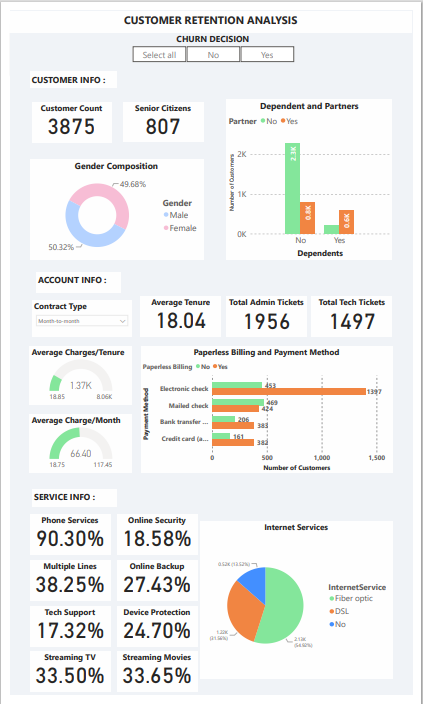

Layout of this report page (visuals, bound fields, positions):
{"tool":"powerbi","page":{"name":"Page 2","canvas":[1000,1700],"ordinal":0},"visuals":[{"type":"textbox","box":[0,0,999.4,54.4],"z":0},{"type":"card","title":"Average Tenure","fields":{"Values":["Avg(01 Churn-Dataset.tenure)"]},"box":[325,710,200,100],"z":1000},{"type":"textbox","box":[50,151.4,215.7,40],"z":2000},{"type":"gauge","title":"Average Charge/Month","fields":{"MinValue":["Min(01 Churn-Dataset.MonthlyCharges)"],"MaxValue":["Max(01 Churn-Dataset.MonthlyCharges)"],"Y":["Avg(01 Churn-Dataset.MonthlyCharges)"]},"box":[50,1002.9,254.3,145.7],"z":3000},{"type":"textbox","box":[65.7,648.6,210,50],"z":4000},{"type":"gauge","title":"Average Charges/Tenure","fields":{"Y":["Avg(01 Churn-Dataset.TotalCharges)"],"MinValue":["Min(01 Churn-Dataset.TotalCharges)"],"MaxValue":["Max(01 Churn-Dataset.TotalCharges)"]},"box":[50,834.3,254.3,145.7],"z":5000},{"type":"textbox","box":[55.7,1187.1,210,44.3],"z":6000},{"type":"card","title":"Customer Count","fields":{"Values":["Count(01 Churn-Dataset.customerID)"]},"box":[55,228.3,198.3,100],"z":7000},{"type":"slicer","title":"CHURN DECISION","fields":{"Values":["01 Churn-Dataset.Churn"]},"box":[280,54.3,450,80],"z":8000},{"type":"donutChart","title":"Gender Composition","fields":{"Category":["01 Churn-Dataset.gender"],"Y":["CountNonNull(01 Churn-Dataset.customerID)"]},"box":[50,368.6,431.4,250],"z":9000},{"type":"card","title":"Senior Citizens","fields":{"Values":["Sum(01 Churn-Dataset.SeniorCitizen)"]},"box":[280.6,227.6,200.6,99.4],"z":10000},{"type":"clusteredColumnChart","title":"Dependent and Partners","fields":{"Category":["01 Churn-Dataset.Dependents"],"Y":["CountNonNull(01 Churn-Dataset.customerID)"],"Series":["01 Churn-Dataset.Partner"]},"box":[538.6,221.4,411.4,397.1],"z":11000},{"type":"clusteredBarChart","title":"Paperless Billing and Payment Method","fields":{"Category":["01 Churn-Dataset.PaymentMethod"],"Y":["CountNonNull(01 Churn-Dataset.customerID)"],"Series":["01 Churn-Dataset.PaperlessBilling"]},"box":[325.7,834.3,624.3,314.3],"z":12000},{"type":"slicer","title":"Contract Type","fields":{"Values":["01 Churn-Dataset.Contract"]},"box":[55.7,718.6,248.6,91.4],"z":13000},{"type":"card","title":"Total Tech Tickets","fields":{"Values":["Sum(01 Churn-Dataset.numTechTickets)"]},"box":[750,710,200,101.4],"z":14000},{"type":"card","title":"Total Admin Tickets","fields":{"Values":["Sum(01 Churn-Dataset.numAdminTickets)"]},"box":[537.9,710,200,101.4],"z":15000},{"type":"card","title":"Phone Services ","fields":{"Values":["01 Churn-Dataset.PhoneServiceyes"]},"box":[50,1250,200,100],"z":15001},{"type":"card","title":"Multiple Lines","fields":{"Values":["01 Churn-Dataset.Multiplelines%"]},"box":[50,1363.8,200,100],"z":15002},{"type":"card","title":"Online Security","fields":{"Values":["01 Churn-Dataset.OnlineSecurity%"]},"box":[266.2,1250,200,100],"z":15003},{"type":"card","title":"Online Backup","fields":{"Values":["01 Churn-Dataset.OnlineBackup%"]},"box":[266.2,1363.8,200,100],"z":15004},{"type":"pieChart","title":"Internet Services","fields":{"Category":["01 Churn-Dataset.InternetService"],"Y":["CountNonNull(01 Churn-Dataset.customerID)"]},"box":[472.5,1267.5,477.5,391.2],"z":15005},{"type":"card","title":"Device Protection","fields":{"Values":["01 Churn-Dataset.DeviceProtection%"]},"box":[266.2,1477.5,200,100],"z":15006},{"type":"card","title":"Tech Support","fields":{"Values":["01 Churn-Dataset.TechSupport%"]},"box":[50,1477.5,200,100],"z":15007},{"type":"card","title":"Streaming TV","fields":{"Values":["01 Churn-Dataset.StreamingTV%"]},"box":[50,1591.2,200,100],"z":15008},{"type":"card","title":"Streaming Movies","fields":{"Values":["01 Churn-Dataset.StreamingMovies%"]},"box":[266.2,1591.2,200,100],"z":15009}]}

Visuals, with their boxes in screenshot pixels (x1, y1, x2, y2), scaled from the page's 1000x1700 canvas onto the 423x704 screenshot:
textbox: pyautogui.locateOnScreen(0, 0, 422, 23)
"Average Tenure" card: pyautogui.locateOnScreen(137, 294, 222, 335)
textbox: pyautogui.locateOnScreen(21, 63, 112, 79)
"Average Charge/Month" gauge: pyautogui.locateOnScreen(21, 415, 129, 476)
textbox: pyautogui.locateOnScreen(28, 269, 117, 289)
"Average Charges/Tenure" gauge: pyautogui.locateOnScreen(21, 345, 129, 406)
textbox: pyautogui.locateOnScreen(24, 492, 112, 510)
"Customer Count" card: pyautogui.locateOnScreen(23, 95, 107, 136)
"CHURN DECISION" slicer: pyautogui.locateOnScreen(118, 22, 309, 56)
"Gender Composition" donutChart: pyautogui.locateOnScreen(21, 153, 204, 256)
"Senior Citizens" card: pyautogui.locateOnScreen(119, 94, 204, 135)
"Dependent and Partners" clusteredColumnChart: pyautogui.locateOnScreen(228, 92, 402, 256)
"Paperless Billing and Payment Method" clusteredBarChart: pyautogui.locateOnScreen(138, 345, 402, 476)
"Contract Type" slicer: pyautogui.locateOnScreen(24, 298, 129, 335)
"Total Tech Tickets" card: pyautogui.locateOnScreen(317, 294, 402, 336)
"Total Admin Tickets" card: pyautogui.locateOnScreen(228, 294, 312, 336)
"Phone Services " card: pyautogui.locateOnScreen(21, 518, 106, 559)
"Multiple Lines" card: pyautogui.locateOnScreen(21, 565, 106, 606)
"Online Security" card: pyautogui.locateOnScreen(113, 518, 197, 559)
"Online Backup" card: pyautogui.locateOnScreen(113, 565, 197, 606)
"Internet Services" pieChart: pyautogui.locateOnScreen(200, 525, 402, 687)
"Device Protection" card: pyautogui.locateOnScreen(113, 612, 197, 653)
"Tech Support" card: pyautogui.locateOnScreen(21, 612, 106, 653)
"Streaming TV" card: pyautogui.locateOnScreen(21, 659, 106, 700)
"Streaming Movies" card: pyautogui.locateOnScreen(113, 659, 197, 700)
